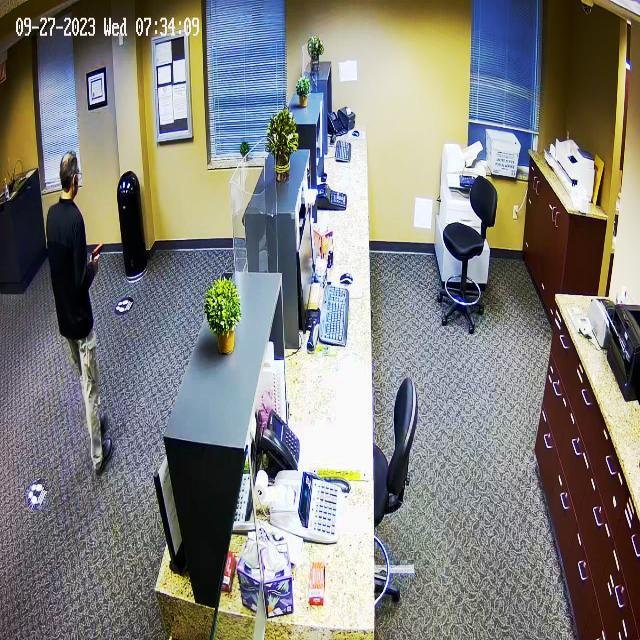Gun: (90, 233, 118, 280)
